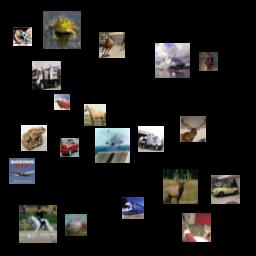airplane: (95, 128, 130, 163), (9, 158, 35, 184), (54, 94, 70, 110)
automobile: (211, 175, 240, 204), (60, 138, 79, 157)
bird: (65, 214, 87, 236)
cat: (182, 213, 211, 242)
deer: (163, 169, 198, 204), (180, 116, 206, 142)
dog: (199, 52, 218, 71)
frog: (43, 11, 81, 49), (21, 125, 47, 151), (13, 27, 32, 46)
ship: (155, 43, 190, 78)
truck: (32, 61, 61, 90), (138, 126, 164, 152), (122, 197, 144, 219)
